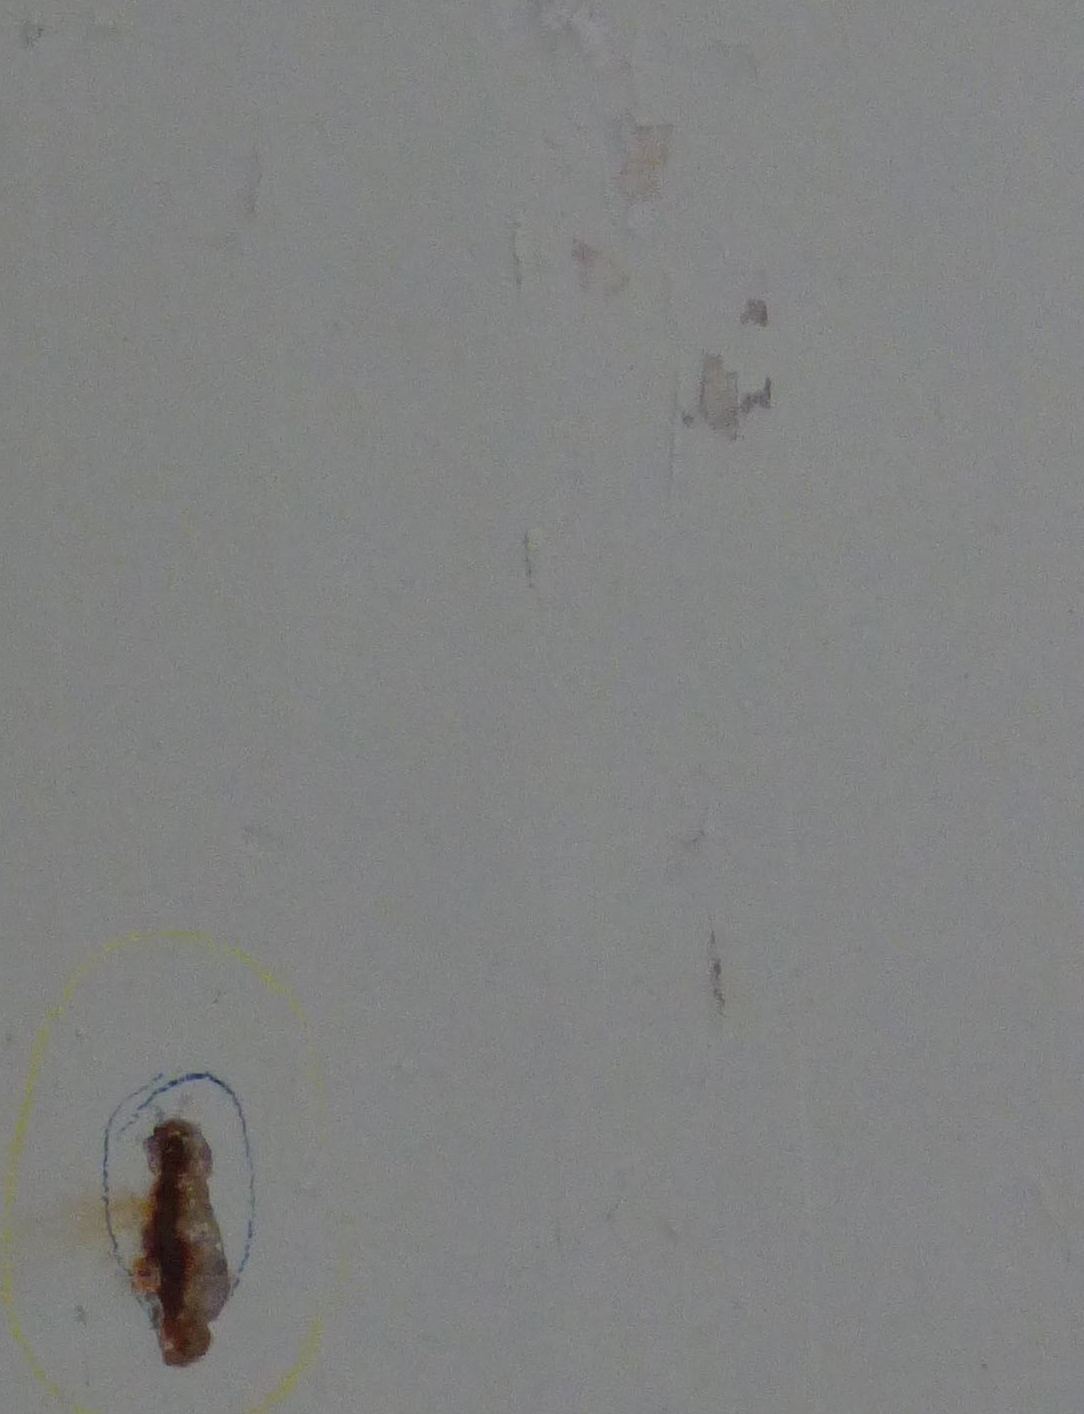Exposed reinforcement: (158, 1138, 187, 1323)
Spalling: (130, 1118, 231, 1368)
